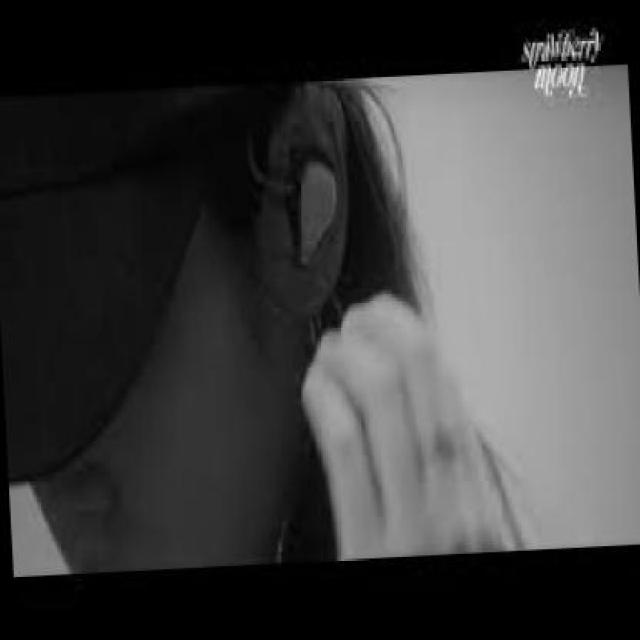earphone: (286, 153, 356, 272)
